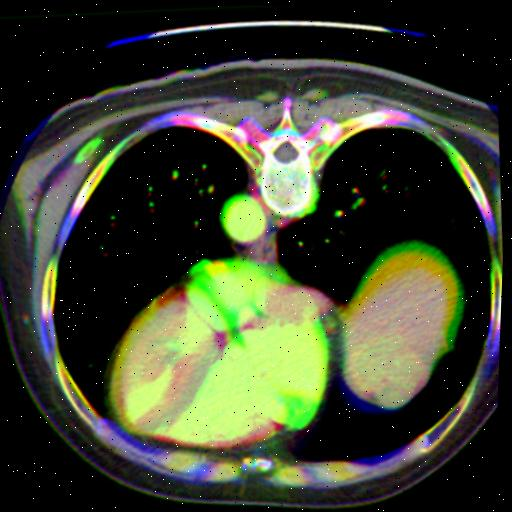Tumor: (350, 333, 433, 407)
